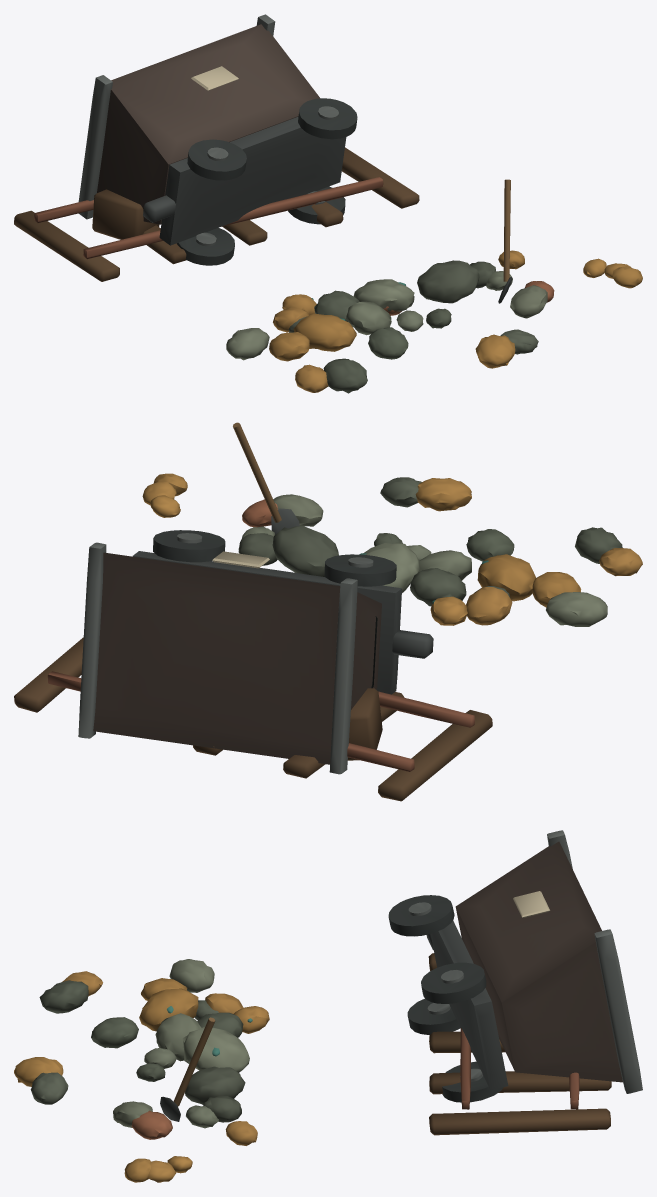
Rendered from ore_car_a_lod1.glb.
The picture shows the model from 3 angles, top to bottom: view 1: azimuth 30°, elevation 25°; view 2: azimuth 150°, elevation 25°; view 3: azimuth 270°, elevation 25°; orthographic projection. The views are drawn at different scales.
Parts seen in each view (by area): view 1: Surface.001; view 2: Surface.001; view 3: Surface.001.
Boxes of the visible parts, box(x1,y1,x2,y2) form: Surface.001: box(14, 14, 642, 393); Surface.001: box(14, 422, 642, 801); Surface.001: box(14, 830, 642, 1182).
Bounding box in the file's own units: 5.86 × 2.08 × 6.94.
